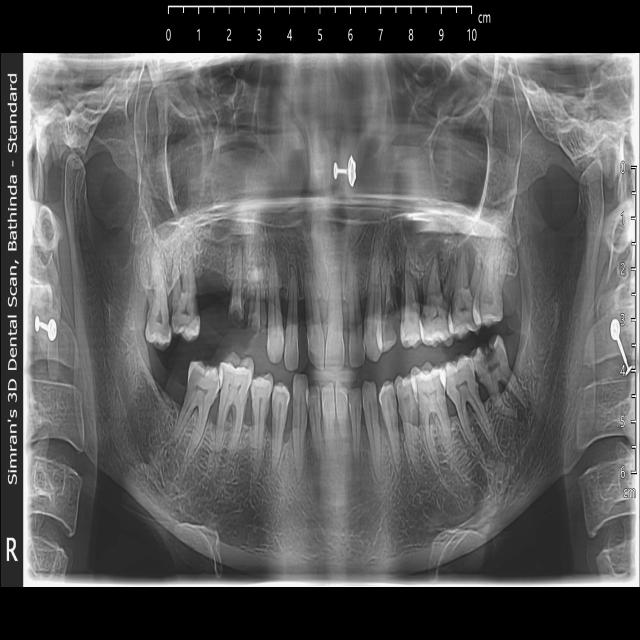Caries: (472, 341, 500, 372), (383, 299, 402, 337)
Missing teeth: (202, 260, 227, 322)
Root Piece: (248, 274, 262, 337), (230, 249, 241, 327)
